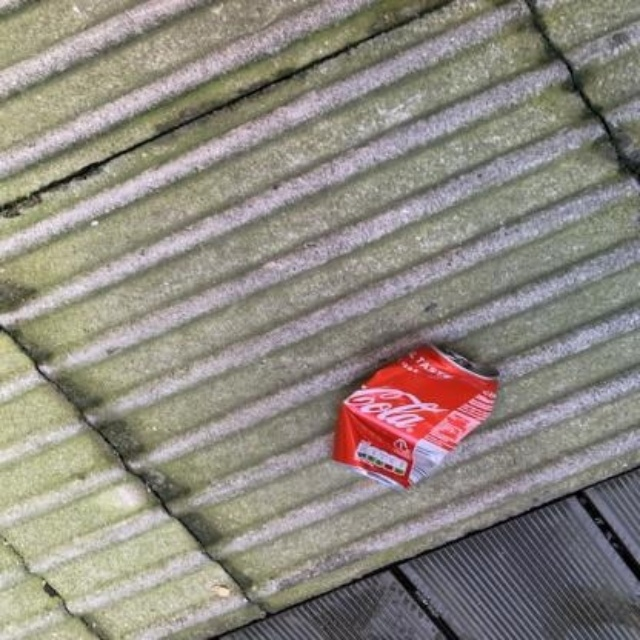trash: (332, 345, 497, 488)
